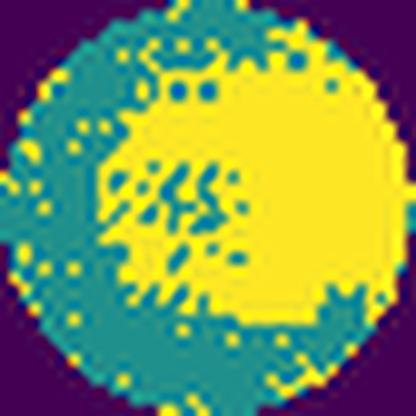Edge-Loc: (98, 26, 408, 326)
